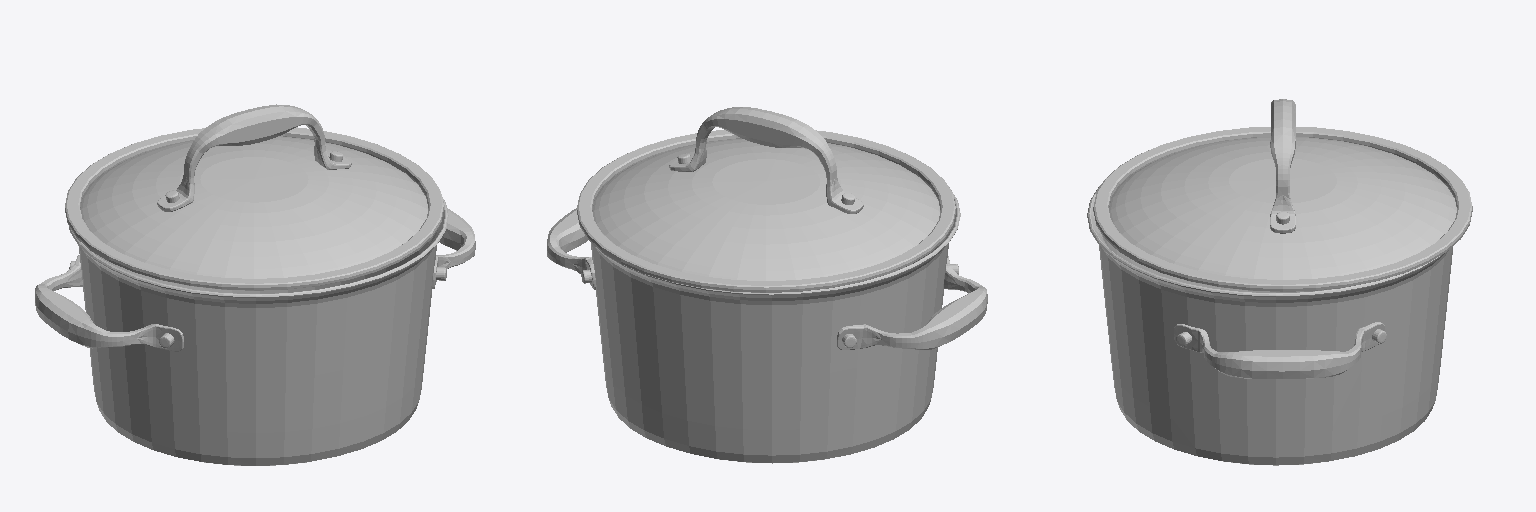
3 views of the same model, side by side, from view 1: azimuth 30°, elevation 25°; view 2: azimuth 150°, elevation 25°; view 3: azimuth 270°, elevation 25° (orthographic).
Parts seen in each view (by area): view 1: Body, Cover; view 2: Body, Cover; view 3: Body, Cover.
Boxes of the visible parts, x1,y1,x2,y2 form: Body: [35, 197, 475, 465]; Cover: [65, 104, 443, 290]; Body: [547, 187, 987, 463]; Cover: [577, 107, 955, 292]; Body: [1087, 184, 1452, 465]; Cover: [1093, 99, 1472, 291].
Size of the model in its own units: 126 by 85.61 by 104.